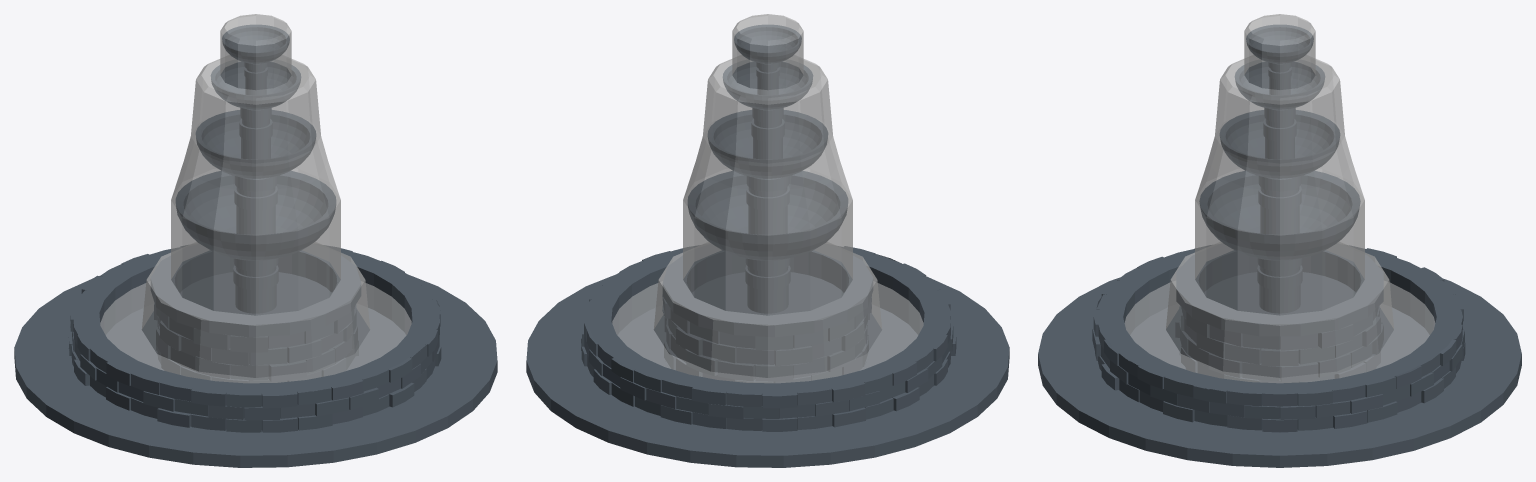
File: Fountain.fbx_Fountain.fbx
3 views of the same model, side by side, from view 1: azimuth 30°, elevation 25°; view 2: azimuth 150°, elevation 25°; view 3: azimuth 270°, elevation 25° (orthographic).
Parts seen in each view (by area): view 1: Water; view 2: Water; view 3: Water.
Part boxes in pixels (box(x1,y1,x2,y2)): Water: box(14, 14, 497, 467); Water: box(526, 14, 1009, 467); Water: box(1038, 14, 1521, 467).
Bounding box in the file's own units: 1800 × 1800 × 1389.
